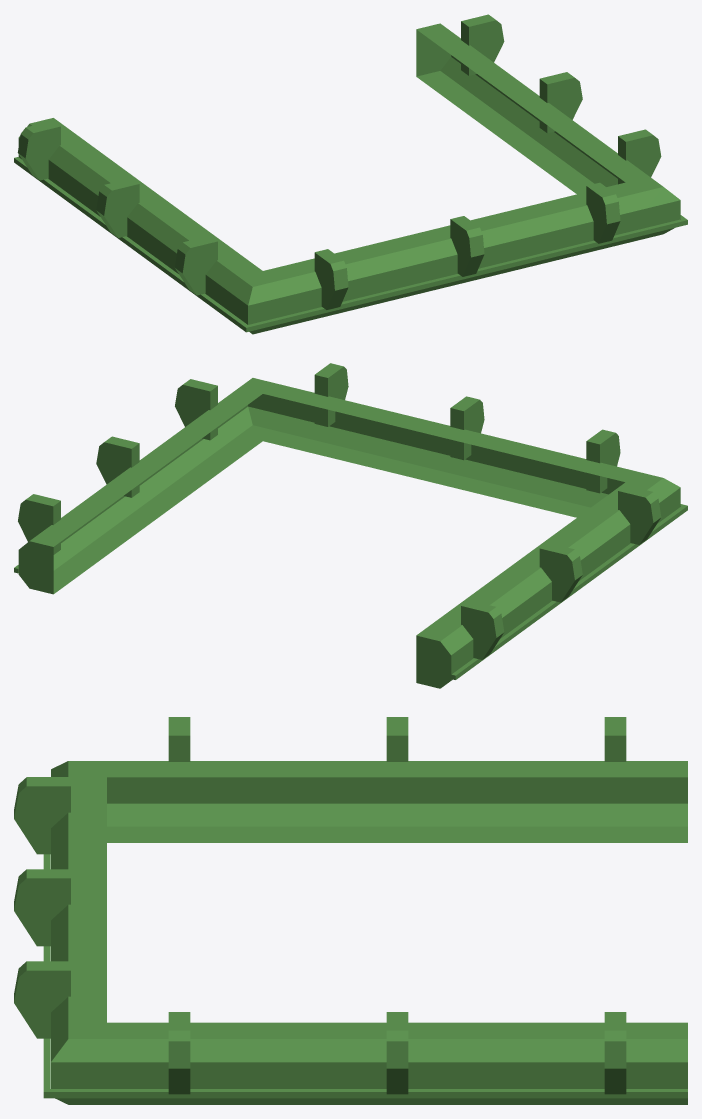
The model's file is parapet 2corner.FBX.
The picture shows the model from 3 angles, top to bottom: view 1: azimuth 30°, elevation 25°; view 2: azimuth 150°, elevation 25°; view 3: azimuth 270°, elevation 25°; orthographic projection. The views are drawn at different scales.
Visible parts, largest first — view 1: Object1081; view 2: Object1081; view 3: Object1081.
Part boxes in pixels (box(x1,y1,x2,y2)): Object1081: box(14, 14, 687, 334); Object1081: box(14, 363, 687, 688); Object1081: box(14, 717, 687, 1104).
Bounding box in the file's own units: 5.28 × 0.6987 × 4.64.
